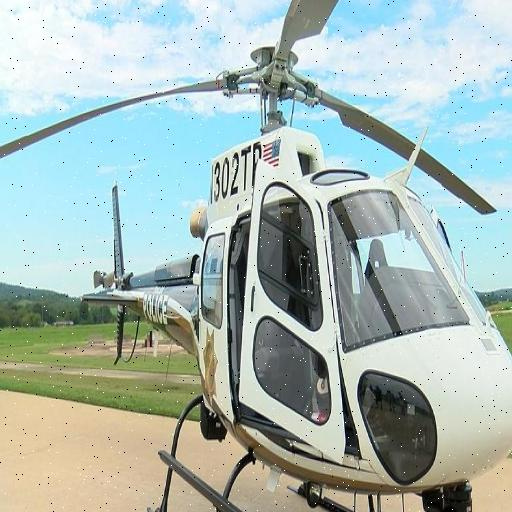helicopter: (74, 1, 512, 512)
